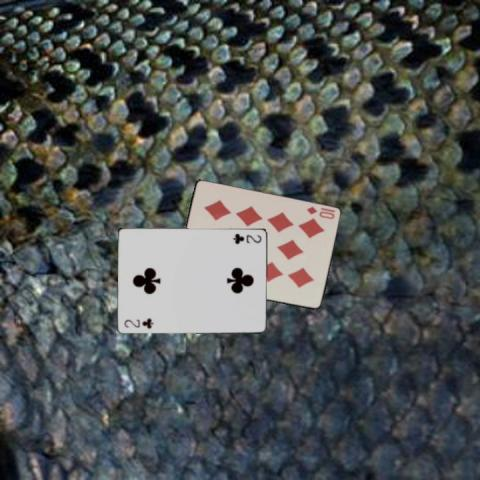10d: (303, 204, 337, 221)
2c: (121, 315, 155, 330), (230, 230, 263, 244)
